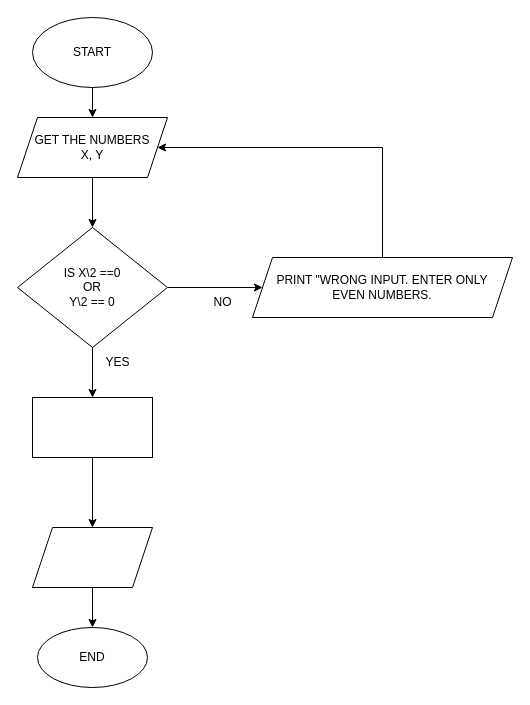
This 530x705 diagram has some shape labels left out. Each missing label, with the box of its shape:
PRINT SUM: (32, 526, 152, 588)
SUM = X+Y: (32, 396, 152, 458)
